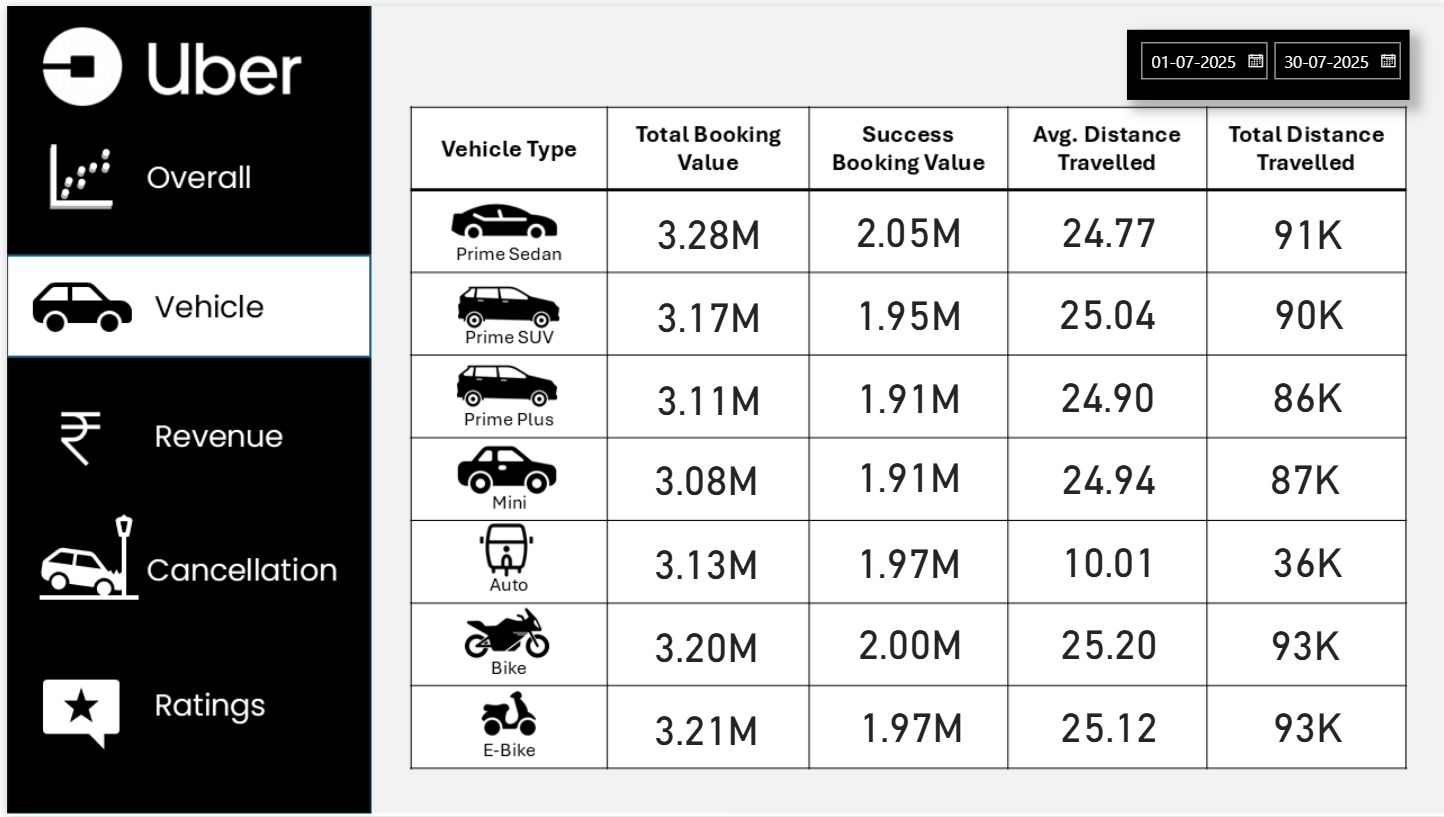

This screenshot's page, from the dashboard's own definition file:
{"tool":"powerbi","page":{"name":"Vehicle Type","canvas":[1280,720],"ordinal":1},"visuals":[{"type":"actionButton","box":[0,338.8,323.2,91.5],"z":0},{"type":"actionButton","box":[0,445.8,323.2,91.5],"z":1000},{"type":"actionButton","box":[0,574.7,323.2,91.5],"z":2000},{"type":"actionButton","box":[1,112.2,323.2,91.5],"z":3000},{"type":"card","fields":{"Values":["Sum(July.Booking_Value)"]},"box":[543.8,177.5,161.2,45],"z":4000},{"type":"card","fields":{"Values":["Sum(July.Booking_Value)"]},"box":[543.8,251.2,161.2,46.2],"z":5000},{"type":"card","fields":{"Values":["Sum(July.Booking_Value)"]},"box":[543.8,326.2,161.2,42.5],"z":6000},{"type":"card","fields":{"Values":["Sum(July.Booking_Value)"]},"box":[541.2,397.5,161.2,42.5],"z":7000},{"type":"card","fields":{"Values":["Sum(July.Booking_Value)"]},"box":[541.2,470,161.2,46.2],"z":8000},{"type":"card","fields":{"Values":["Sum(July.Booking_Value)"]},"box":[541.2,543.8,161.2,47.5],"z":9000},{"type":"card","fields":{"Values":["Sum(July.Booking_Value)"]},"box":[541.2,617.5,161.2,46.2],"z":10000},{"type":"card","fields":{"Values":["Sum(July.Booking_Value)"]},"box":[721.2,175,161.2,45],"z":11000},{"type":"card","fields":{"Values":["Sum(July.Booking_Value)"]},"box":[721.2,250,161.2,45],"z":12000},{"type":"card","fields":{"Values":["Sum(July.Booking_Value)"]},"box":[721.2,323.8,161.2,45],"z":13000},{"type":"card","fields":{"Values":["Sum(July.Booking_Value)"]},"box":[721.2,393.8,161.2,45],"z":14000},{"type":"card","fields":{"Values":["Sum(July.Booking_Value)"]},"box":[721.2,470,161.2,45],"z":15000},{"type":"card","fields":{"Values":["Sum(July.Booking_Value)"]},"box":[722.5,542.5,161.2,45],"z":16000},{"type":"card","fields":{"Values":["Sum(July.Booking_Value)"]},"box":[723.8,615,161.2,45],"z":17000},{"type":"card","fields":{"Values":["Avg(July.Ride_Distance)"]},"box":[898.8,175,161.2,45],"z":18000},{"type":"card","fields":{"Values":["Avg(July.Ride_Distance)"]},"box":[897.5,248.8,161.2,45],"z":19000},{"type":"card","fields":{"Values":["Avg(July.Ride_Distance)"]},"box":[897.5,322.5,161.2,45],"z":20000},{"type":"card","fields":{"Values":["Avg(July.Ride_Distance)"]},"box":[898.8,395,161.2,45],"z":21000},{"type":"card","fields":{"Values":["Avg(July.Ride_Distance)"]},"box":[898.8,468.8,161.2,45],"z":22000},{"type":"card","fields":{"Values":["Avg(July.Ride_Distance)"]},"box":[898.8,542.5,161.2,45],"z":23000},{"type":"card","fields":{"Values":["Avg(July.Ride_Distance)"]},"box":[898.8,615,161.2,45],"z":24000},{"type":"card","fields":{"Values":["Sum(July.Ride_Distance)"]},"box":[1075,177.5,161.2,45],"z":25000},{"type":"card","fields":{"Values":["Sum(July.Ride_Distance)"]},"box":[1076.2,248.8,161.2,45],"z":26000},{"type":"card","fields":{"Values":["Sum(July.Ride_Distance)"]},"box":[1075,322.5,161.2,45],"z":27000},{"type":"card","fields":{"Values":["Sum(July.Ride_Distance)"]},"box":[1073.8,395,161.2,45],"z":28000},{"type":"card","fields":{"Values":["Sum(July.Ride_Distance)"]},"box":[1075,468.8,161.2,45],"z":29000},{"type":"card","fields":{"Values":["Sum(July.Ride_Distance)"]},"box":[1073.8,543.8,161.2,45],"z":30000},{"type":"card","fields":{"Values":["Sum(July.Ride_Distance)"]},"box":[1075,615,161.2,45],"z":31000},{"type":"slicer","title":"Date","fields":{"Values":["July.Date"]},"box":[995,21.2,251.2,62.5],"z":32000}]}

Visuals, with their boxes on the page's 1280x720 design canvas (x1, y1, x2, y2). These are canvas units, not pixel positions in the 1444x817 screenshot, which may show the page scaled, cropped or inside an application window:
actionButton: (x1=0, y1=339, x2=323, y2=430)
actionButton: (x1=0, y1=446, x2=323, y2=537)
actionButton: (x1=0, y1=575, x2=323, y2=666)
actionButton: (x1=1, y1=112, x2=324, y2=204)
card - Sum(July.Booking_Value): (x1=544, y1=178, x2=705, y2=222)
card - Sum(July.Booking_Value): (x1=544, y1=251, x2=705, y2=297)
card - Sum(July.Booking_Value): (x1=544, y1=326, x2=705, y2=369)
card - Sum(July.Booking_Value): (x1=541, y1=398, x2=702, y2=440)
card - Sum(July.Booking_Value): (x1=541, y1=470, x2=702, y2=516)
card - Sum(July.Booking_Value): (x1=541, y1=544, x2=702, y2=591)
card - Sum(July.Booking_Value): (x1=541, y1=618, x2=702, y2=664)
card - Sum(July.Booking_Value): (x1=721, y1=175, x2=882, y2=220)
card - Sum(July.Booking_Value): (x1=721, y1=250, x2=882, y2=295)
card - Sum(July.Booking_Value): (x1=721, y1=324, x2=882, y2=369)
card - Sum(July.Booking_Value): (x1=721, y1=394, x2=882, y2=439)
card - Sum(July.Booking_Value): (x1=721, y1=470, x2=882, y2=515)
card - Sum(July.Booking_Value): (x1=722, y1=542, x2=884, y2=588)
card - Sum(July.Booking_Value): (x1=724, y1=615, x2=885, y2=660)
card - Avg(July.Ride_Distance): (x1=899, y1=175, x2=1060, y2=220)
card - Avg(July.Ride_Distance): (x1=898, y1=249, x2=1059, y2=294)
card - Avg(July.Ride_Distance): (x1=898, y1=322, x2=1059, y2=368)
card - Avg(July.Ride_Distance): (x1=899, y1=395, x2=1060, y2=440)
card - Avg(July.Ride_Distance): (x1=899, y1=469, x2=1060, y2=514)
card - Avg(July.Ride_Distance): (x1=899, y1=542, x2=1060, y2=588)
card - Avg(July.Ride_Distance): (x1=899, y1=615, x2=1060, y2=660)
card - Sum(July.Ride_Distance): (x1=1075, y1=178, x2=1236, y2=222)
card - Sum(July.Ride_Distance): (x1=1076, y1=249, x2=1237, y2=294)
card - Sum(July.Ride_Distance): (x1=1075, y1=322, x2=1236, y2=368)
card - Sum(July.Ride_Distance): (x1=1074, y1=395, x2=1235, y2=440)
card - Sum(July.Ride_Distance): (x1=1075, y1=469, x2=1236, y2=514)
card - Sum(July.Ride_Distance): (x1=1074, y1=544, x2=1235, y2=589)
card - Sum(July.Ride_Distance): (x1=1075, y1=615, x2=1236, y2=660)
"Date" slicer: (x1=995, y1=21, x2=1246, y2=84)
